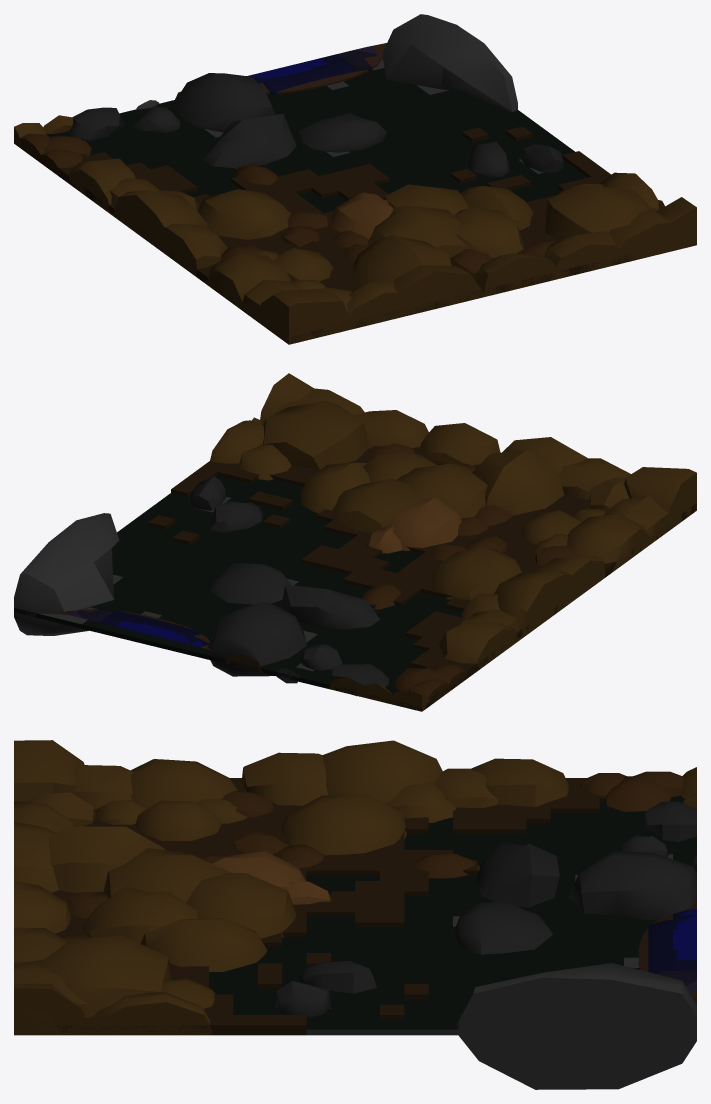
Rendered from holes_rocks_bl_damaged.glb.
The picture shows the model from 3 angles, top to bottom: view 1: azimuth 30°, elevation 25°; view 2: azimuth 150°, elevation 25°; view 3: azimuth 270°, elevation 25°; orthographic projection. The views are drawn at different scales.
Parts seen in each view (by area): view 1: holes_rocks_bl_damaged_pit, holes_rocks_bl_damaged_dirt_base, holes_rocks_bl_damaged_stone14, holes_rocks_bl_damaged_stone13, holes_rocks_bl_damaged_dirt_1, holes_rocks_bl_damaged_dirt_27, holes_rocks_bl_damaged_dirt_28, holes_rocks_bl_damaged_stone20, holes_rocks_bl_damaged_pool, holes_rocks_bl_damaged_dirt_33, holes_rocks_bl_damaged_dirt_99, holes_rocks_bl_damaged_dirt_3 (+29 smaller); view 2: holes_rocks_bl_damaged_pit, holes_rocks_bl_damaged_dirt_base, holes_rocks_bl_damaged_stone14, holes_rocks_bl_damaged_dirt_1, holes_rocks_bl_damaged_stone13, holes_rocks_bl_damaged_dirt_3, holes_rocks_bl_damaged_dirt_33, holes_rocks_bl_damaged_dirt_28, holes_rocks_bl_damaged_stone20, holes_rocks_bl_damaged_dirt_5, holes_rocks_bl_damaged_dirt_35, holes_rocks_bl_damaged_dirt_50 (+32 smaller); view 3: holes_rocks_bl_damaged_pit, holes_rocks_bl_damaged_stone14, holes_rocks_bl_damaged_dirt_base, holes_rocks_bl_damaged_stone13, holes_rocks_bl_damaged_dirt_1, holes_rocks_bl_damaged_dirt_28, holes_rocks_bl_damaged_dirt_33, holes_rocks_bl_damaged_dirt_3, holes_rocks_bl_damaged_dirt_82, holes_rocks_bl_damaged_dirt_35, holes_rocks_bl_damaged_stone20, holes_rocks_bl_damaged_stone21 (+38 smaller).
Boxes of the visible parts, left/top/right/bottom form: holes_rocks_bl_damaged_pit: left=14, top=58, right=587, bottom=213; holes_rocks_bl_damaged_dirt_base: left=23, top=126, right=694, bottom=343; holes_rocks_bl_damaged_stone14: left=382, top=14, right=517, bottom=112; holes_rocks_bl_damaged_stone13: left=176, top=73, right=275, bottom=132; holes_rocks_bl_damaged_dirt_1: left=545, top=185, right=651, bottom=240; holes_rocks_bl_damaged_dirt_27: left=257, top=288, right=352, bottom=344; holes_rocks_bl_damaged_dirt_28: left=198, top=189, right=290, bottom=239; holes_rocks_bl_damaged_stone20: left=203, top=114, right=296, bottom=169; holes_rocks_bl_damaged_pool: left=247, top=43, right=386, bottom=94; holes_rocks_bl_damaged_dirt_33: left=114, top=190, right=207, bottom=262; holes_rocks_bl_damaged_dirt_99: left=387, top=265, right=483, bottom=318; holes_rocks_bl_damaged_dirt_3: left=352, top=235, right=452, bottom=285; holes_rocks_bl_damaged_pit: left=14, top=475, right=462, bottom=711; holes_rocks_bl_damaged_dirt_base: left=148, top=446, right=696, bottom=703; holes_rocks_bl_damaged_stone14: left=14, top=513, right=119, bottom=635; holes_rocks_bl_damaged_dirt_1: left=263, top=401, right=368, bottom=469; holes_rocks_bl_damaged_stone13: left=205, top=601, right=306, bottom=676; holes_rocks_bl_damaged_dirt_3: left=472, top=450, right=564, bottom=515; holes_rocks_bl_damaged_dirt_33: left=494, top=571, right=584, bottom=637; holes_rocks_bl_damaged_dirt_28: left=431, top=547, right=521, bottom=600; holes_rocks_bl_damaged_stone20: left=281, top=585, right=379, bottom=629; holes_rocks_bl_damaged_dirt_5: left=566, top=514, right=655, bottom=572; holes_rocks_bl_damaged_dirt_35: left=332, top=478, right=415, bottom=532; holes_rocks_bl_damaged_dirt_50: left=396, top=463, right=487, bottom=518; holes_rocks_bl_damaged_pit: left=209, top=795, right=696, bottom=1035; holes_rocks_bl_damaged_stone14: left=455, top=963, right=696, bottom=1089; holes_rocks_bl_damaged_dirt_base: left=14, top=778, right=606, bottom=1035; holes_rocks_bl_damaged_stone13: left=569, top=851, right=696, bottom=920; holes_rocks_bl_damaged_dirt_1: left=38, top=935, right=171, bottom=1018; holes_rocks_bl_damaged_dirt_28: left=281, top=793, right=406, bottom=855; holes_rocks_bl_damaged_dirt_33: left=322, top=740, right=442, bottom=803; holes_rocks_bl_damaged_dirt_3: left=49, top=826, right=164, bottom=892; holes_rocks_bl_damaged_dirt_82: left=140, top=918, right=267, bottom=971; holes_rocks_bl_damaged_dirt_35: left=186, top=873, right=296, bottom=938; holes_rocks_bl_damaged_stone20: left=476, top=842, right=559, bottom=907; holes_rocks_bl_damaged_stone21: left=453, top=902, right=552, bottom=955.
Bounding box in the file's own units: 23.98 × 5.19 × 27.98.
